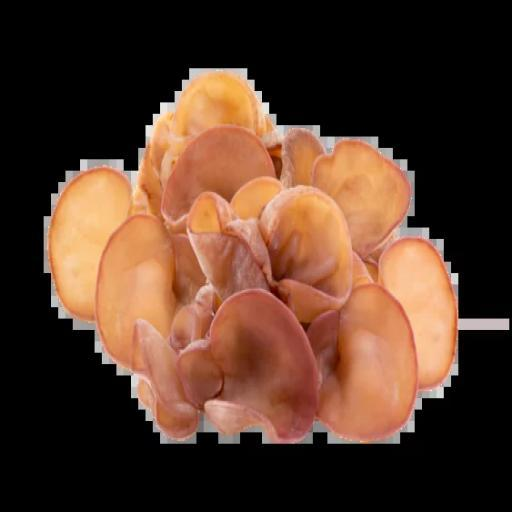mushroom: (42, 67, 468, 471)
